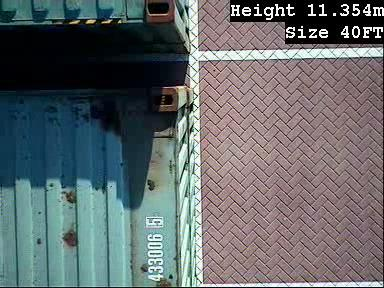groundmarker_2: (173, 152, 216, 215)
